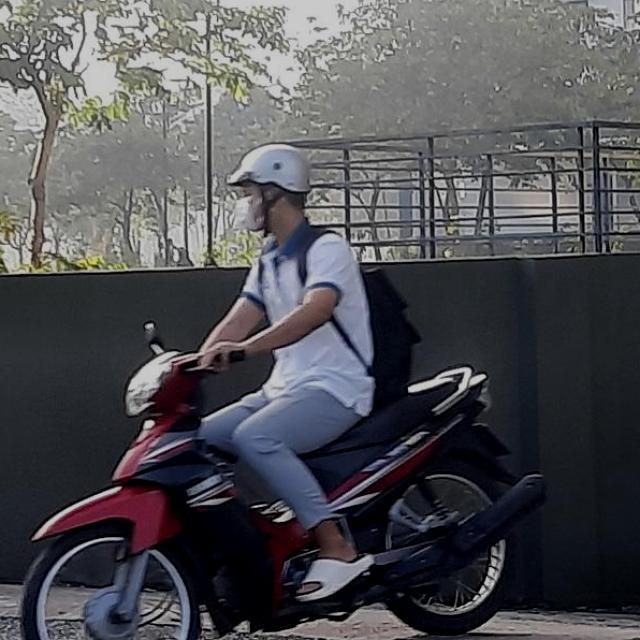Helmet: (227, 140, 310, 247)
